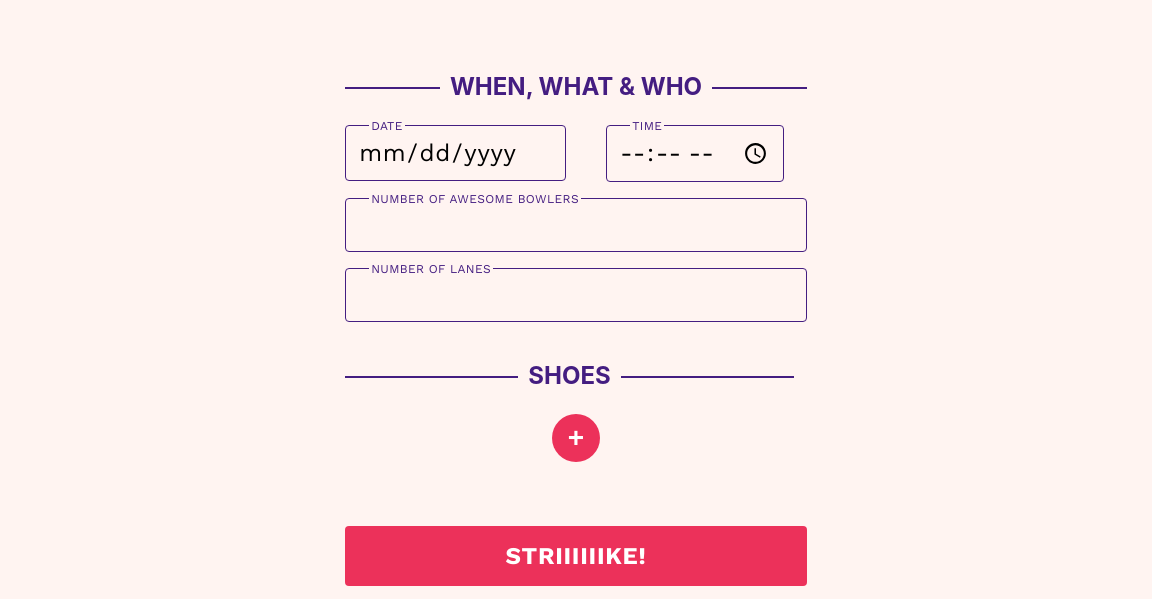
it: Booking Component - Tester kopplade till User Stories › US1 AC4: Ska visa felmeddelande om flera fält saknas vid bokning
(page scrolled)
Step 1. Click the button "strIIIIIike!" → (576, 556), box [345,526,807,586]
(page scrolled)
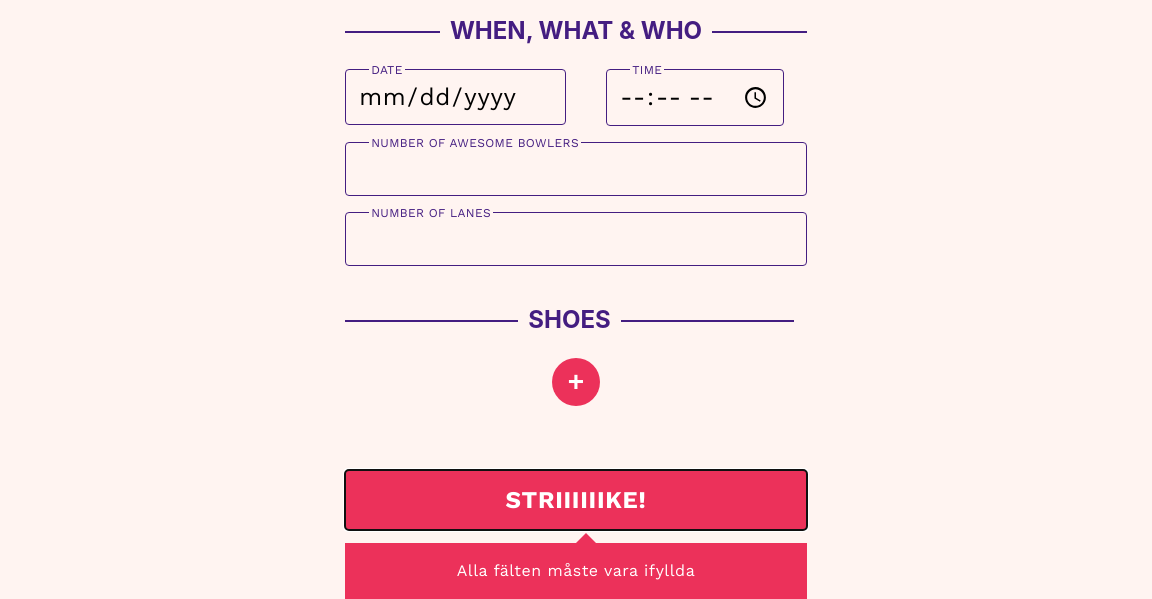
expect the text "Alla fälten måste vara ifyllda" is shown: met, box [457,560,695,582]
